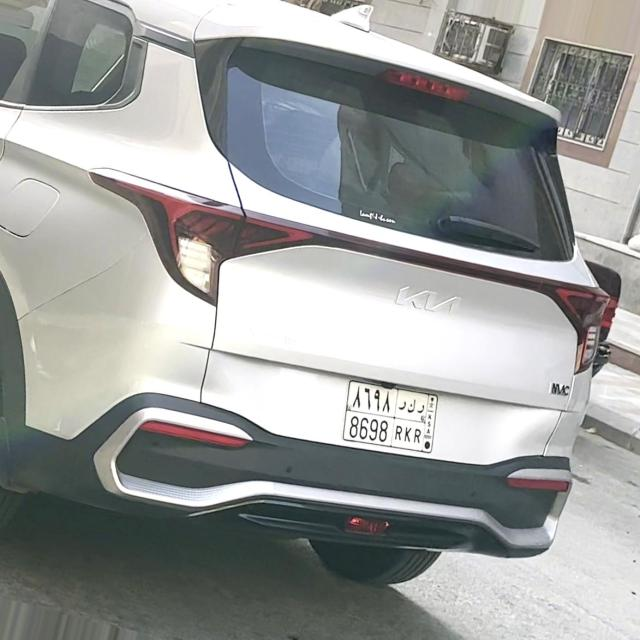Car-plate: (330, 377, 450, 464)
